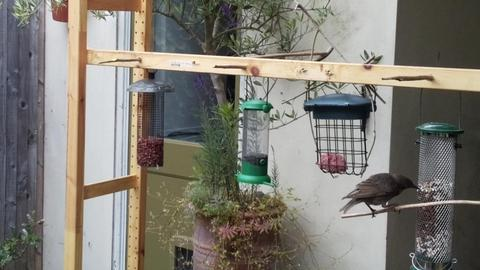starling: (339, 172, 420, 218)
